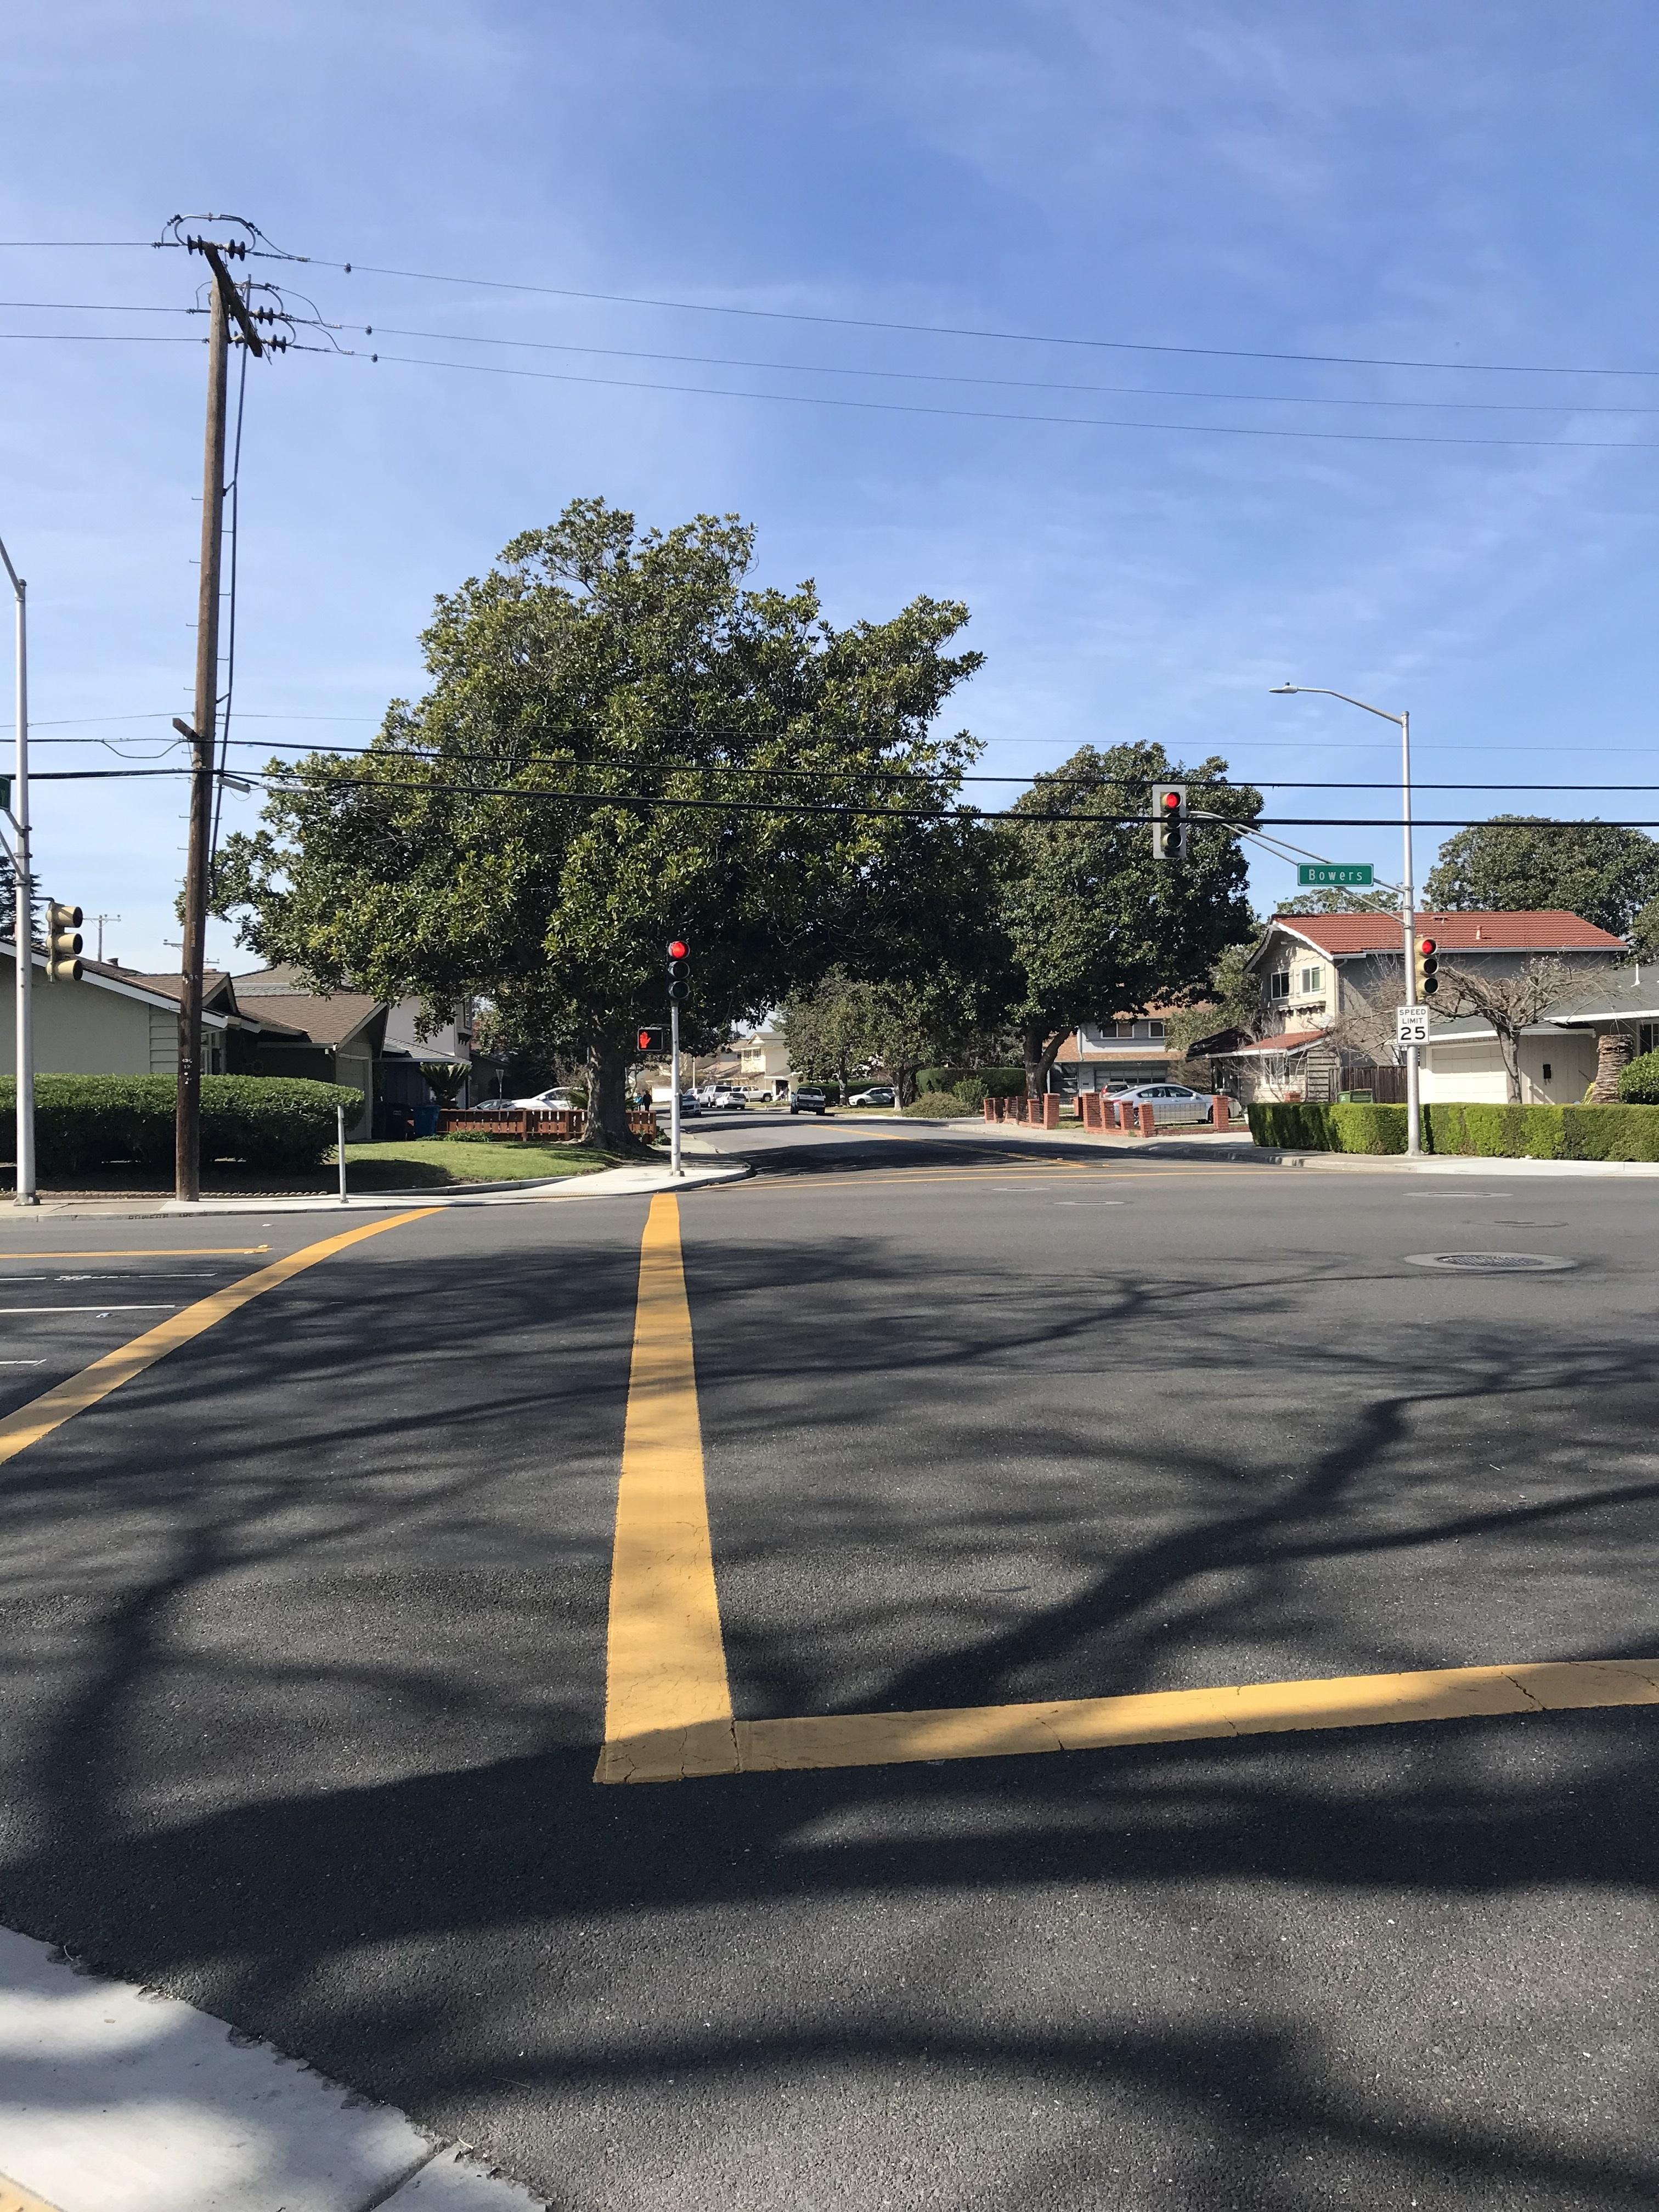red_light: (1161, 782, 1187, 859), (666, 932, 688, 1001), (1419, 932, 1441, 1001)
